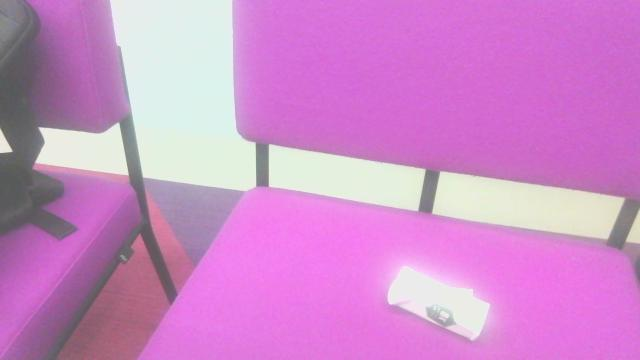cup: (383, 260, 497, 343)
